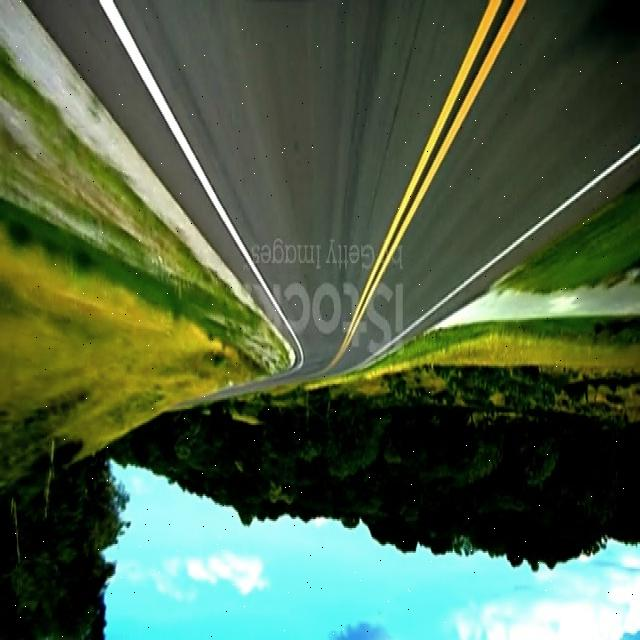lane: (324, 3, 526, 372), (106, 4, 279, 310), (392, 143, 639, 342)
road: (26, 1, 634, 390)
